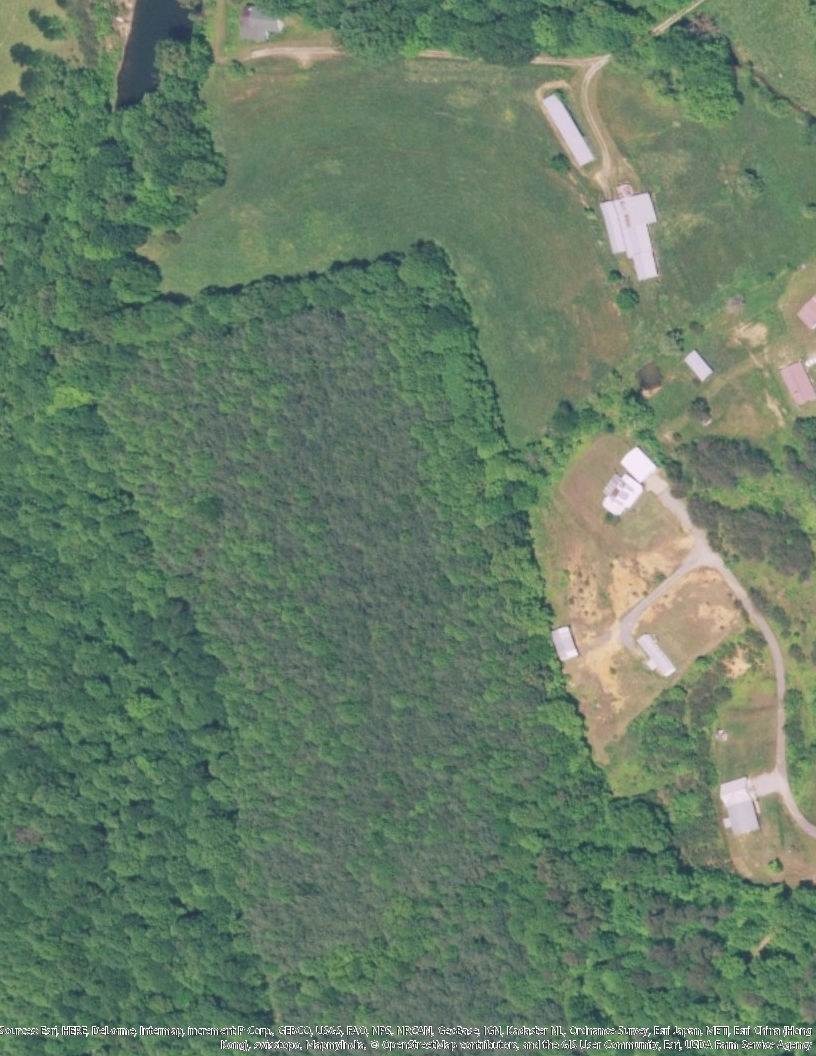cafo: (596, 181, 668, 291), (536, 87, 596, 175)
